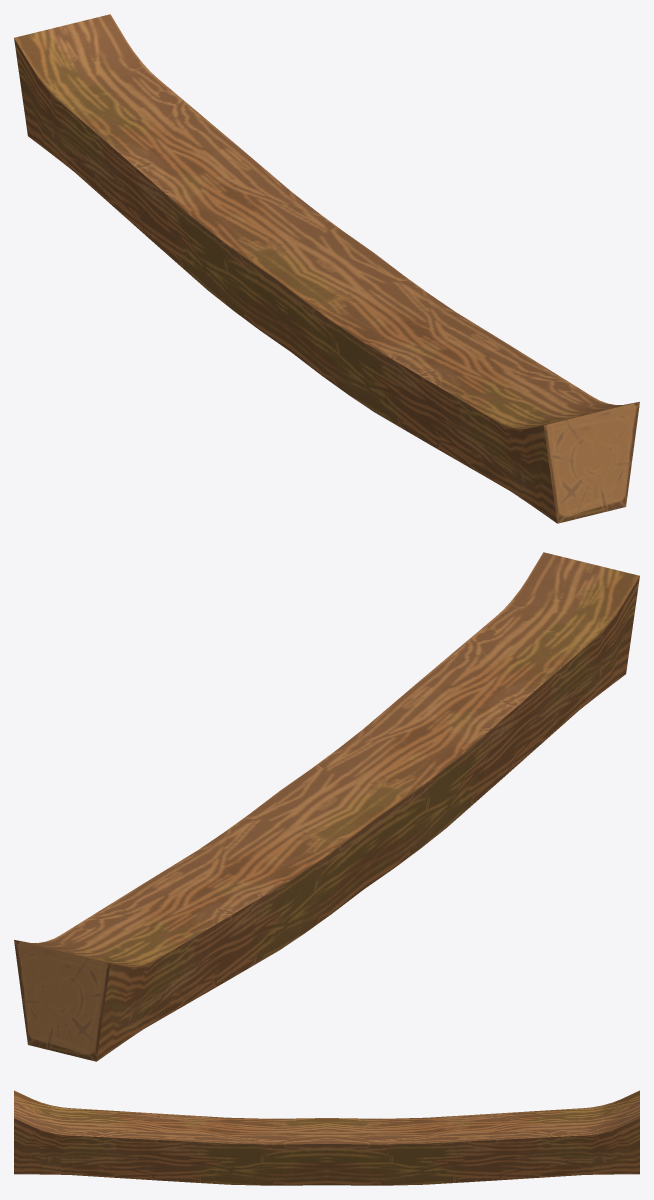
Rendered from Roof_Log.gltf.
The picture shows the model from 3 angles, top to bottom: view 1: azimuth 30°, elevation 25°; view 2: azimuth 150°, elevation 25°; view 3: azimuth 270°, elevation 25°; orthographic projection. The views are drawn at different scales.
Visible parts, largest first — view 1: Roof_Log; view 2: Roof_Log; view 3: Roof_Log.
Boxes of the visible parts, x1=… form: Roof_Log: x1=14, y1=14, x2=639, y2=523; Roof_Log: x1=14, y1=552, x2=639, y2=1061; Roof_Log: x1=14, y1=1090, x2=639, y2=1185.
Size of the model in its own units: 1.15 by 1.39 by 10.7.
Materials: 1 (1 with a texture image).
